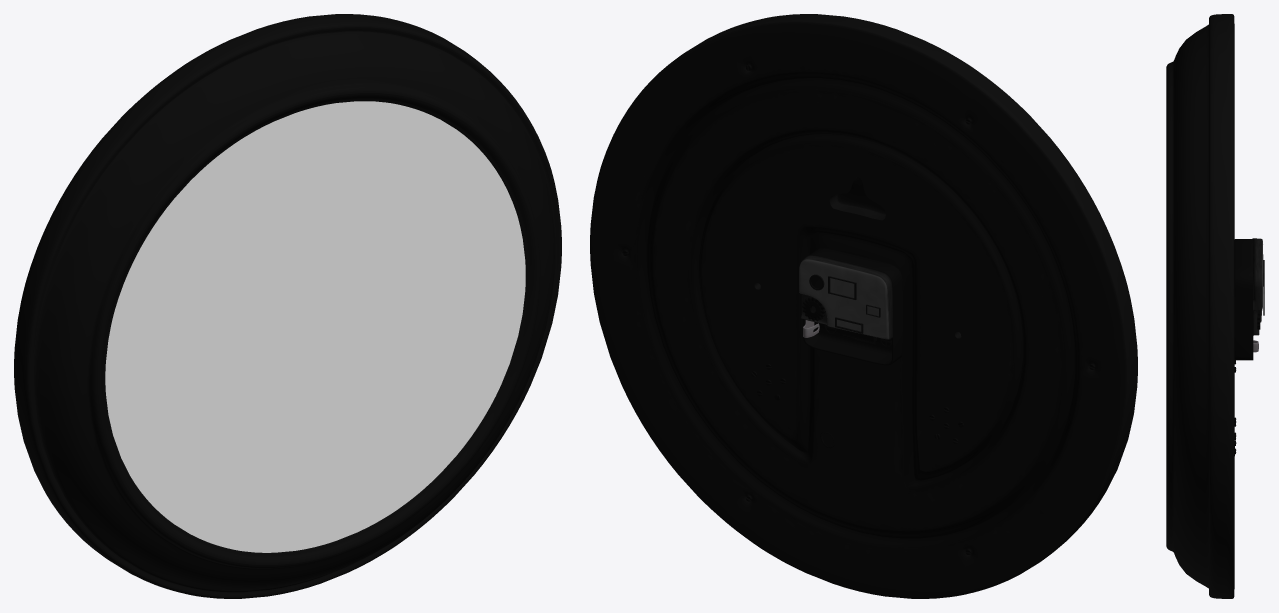
The model's file is MH004_Clock_1.gltf.
The picture shows the model from 3 angles, left to right: view 1: azimuth 30°, elevation 25°; view 2: azimuth 150°, elevation 25°; view 3: azimuth 270°, elevation 25°; orthographic projection. The views are drawn at different scales.
Visible parts, largest first — view 1: Glass, Clock_Structure; view 2: Clock_Structure; view 3: Clock_Structure.
Part boxes in pixels (bbox=[...]): Glass: bbox=[105, 101, 525, 552]; Clock_Structure: bbox=[14, 14, 561, 598]; Clock_Structure: bbox=[590, 14, 1137, 598]; Clock_Structure: bbox=[1166, 14, 1264, 598].
Bounding box in the file's own units: 0.3343 × 0.3345 × 0.0562.
2 materials, 1 textured.
